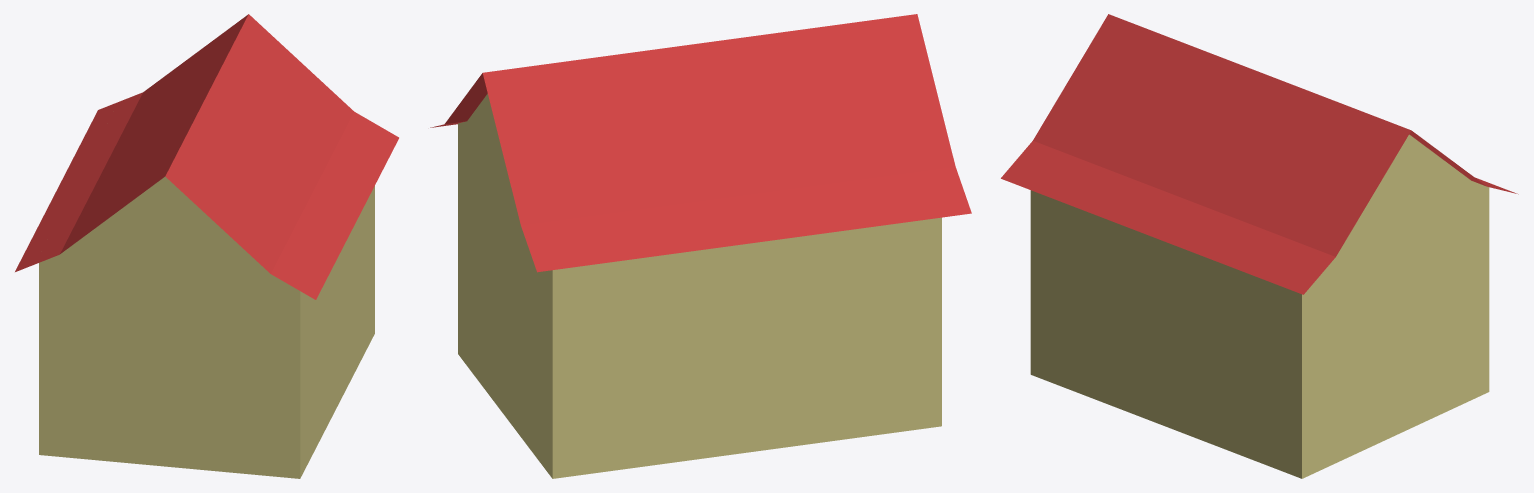
The picture shows the model from 3 angles, left to right: view 1: azimuth 30°, elevation 25°; view 2: azimuth 150°, elevation 25°; view 3: azimuth 270°, elevation 25°; orthographic projection. The views are drawn at different scales.
Bounding box in the file's own units: 17.99 × 18.2 × 12.04.
